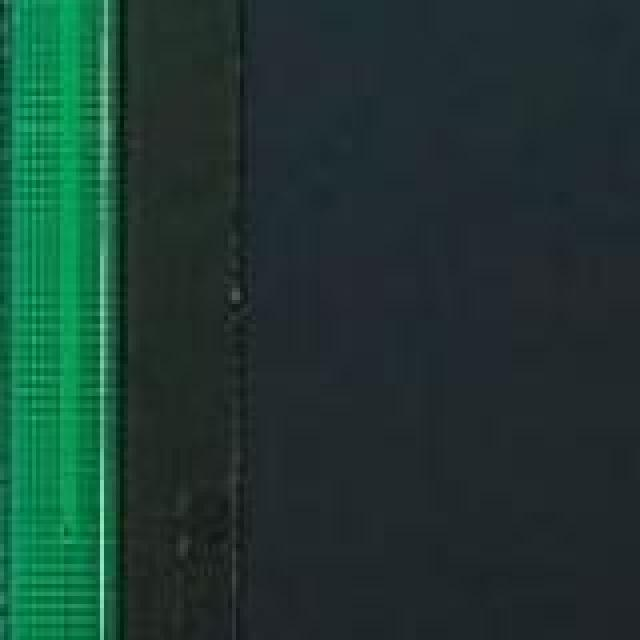display: (112, 0, 640, 640)
